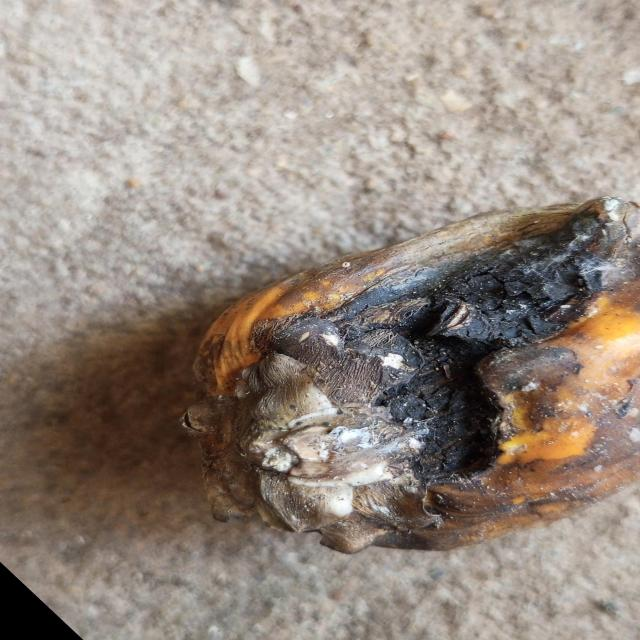damaged: (182, 198, 640, 553)
